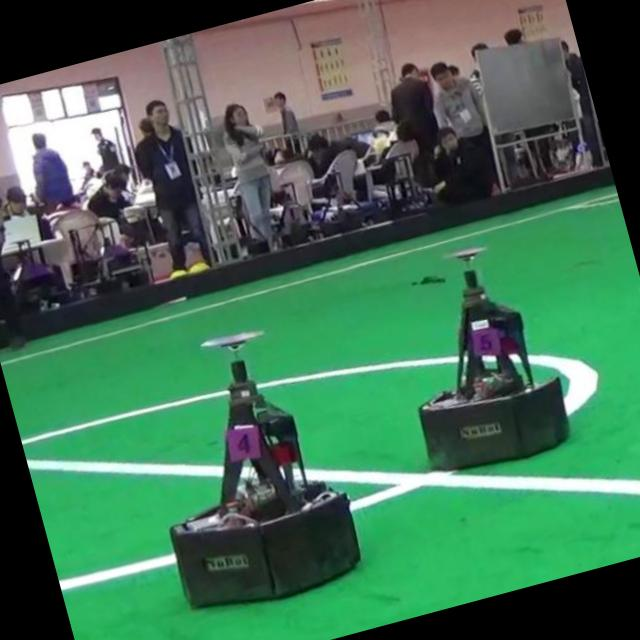ball: (187, 260, 211, 275), (169, 268, 187, 280)
robot: (171, 359, 361, 609), (420, 269, 569, 471)
